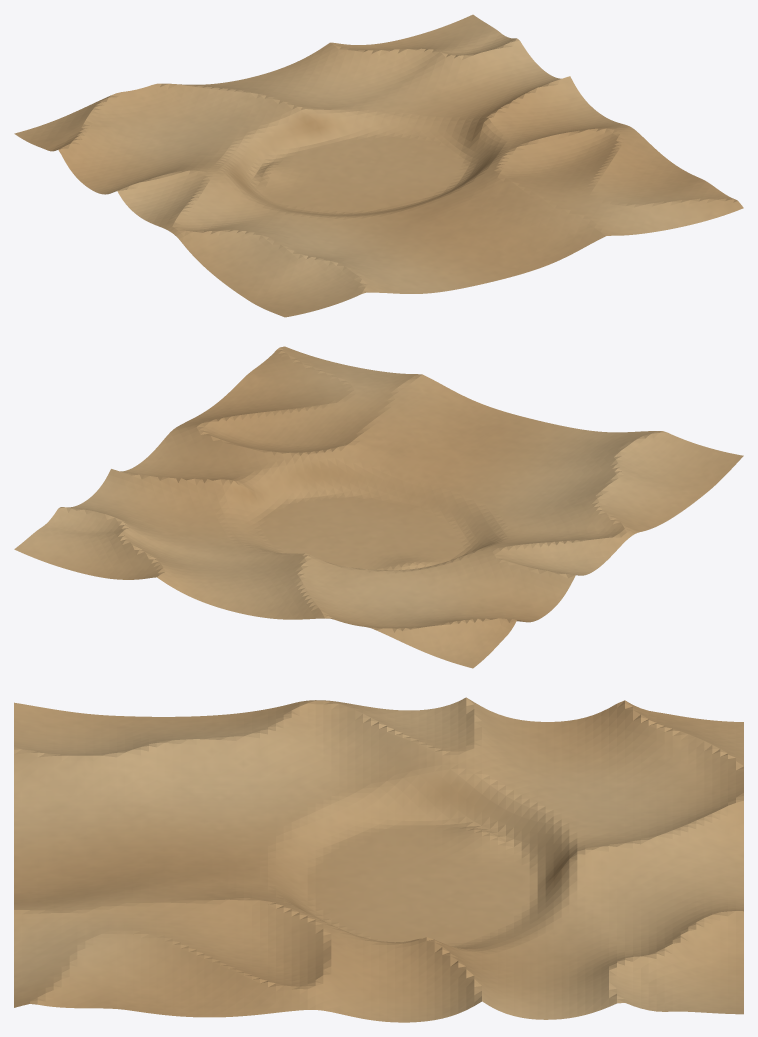
File: terrain.glb
3 renders of one model, top to bottom at view 1: azimuth 30°, elevation 25°; view 2: azimuth 150°, elevation 25°; view 3: azimuth 270°, elevation 25°, orthographic. The views are drawn at different scales.
Parts seen in each view (by area): view 1: Terrain; view 2: Terrain; view 3: Terrain.
Boxes of the visible parts, <box> form: Terrain: <box>14,14,743,317</box>; Terrain: <box>14,346,743,668</box>; Terrain: <box>14,697,743,1022</box>.
Size of the model in its own units: 180 by 11.08 by 184.
